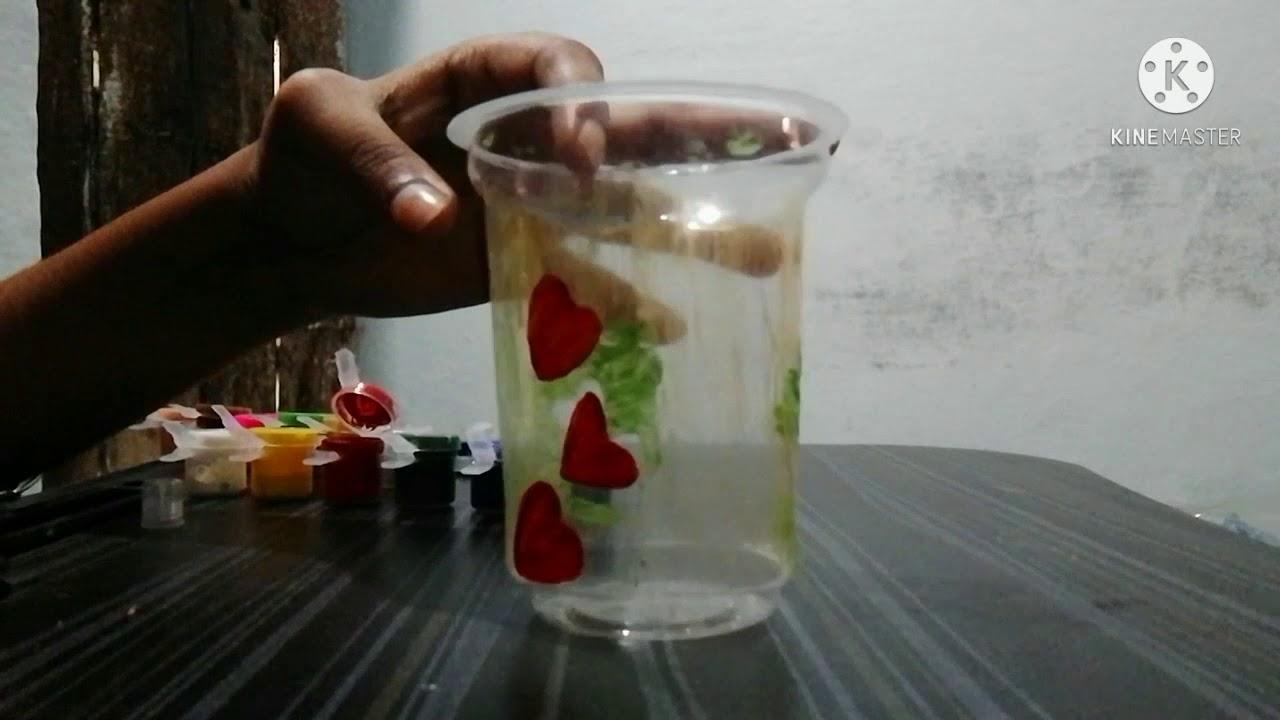plastic_glass: (446, 57, 865, 659)
